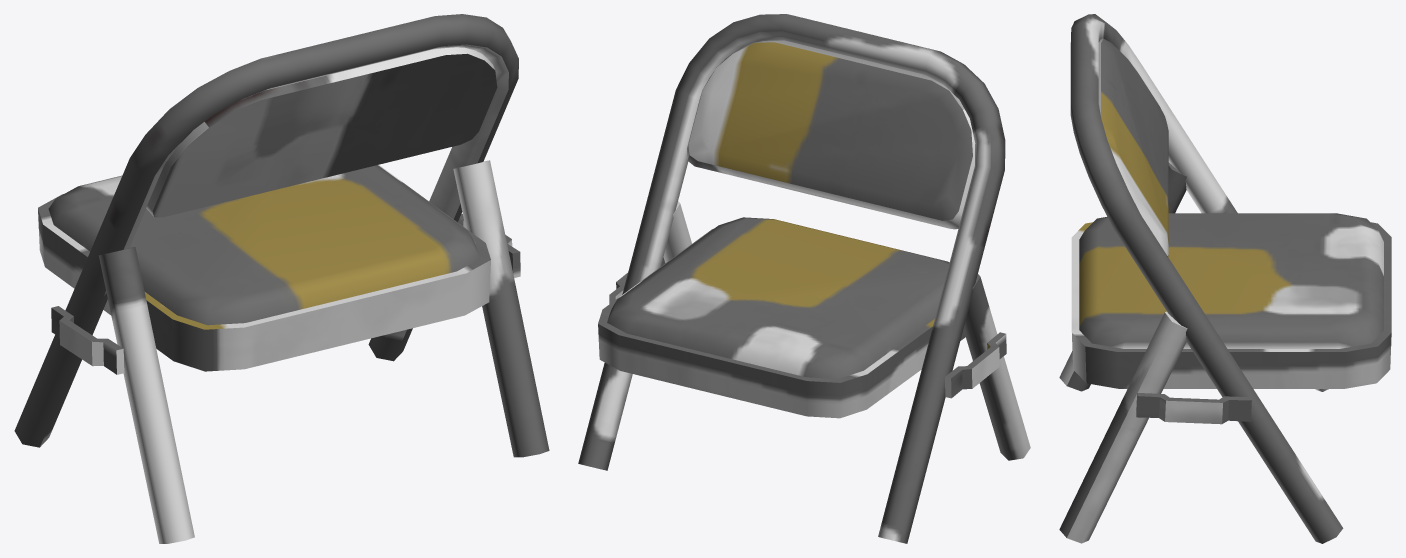
Rendered from Pfb_Chair.fbx.
3 renders of one model, left to right at view 1: azimuth 30°, elevation 25°; view 2: azimuth 150°, elevation 25°; view 3: azimuth 270°, elevation 25°, orthographic. The views are drawn at different scales.
Parts seen in each view (by area): view 1: Mat_Chair_02_White_M; view 2: Mat_Chair_02_White_M; view 3: Mat_Chair_02_White_M.
Part boxes in pixels (x1,y1,x2,y2): Mat_Chair_02_White_M: (14, 14, 549, 543); Mat_Chair_02_White_M: (578, 14, 1030, 543); Mat_Chair_02_White_M: (1059, 14, 1391, 543).
Bounding box in the file's own units: 0.93 × 0.9795 × 0.7249.
Materials: 1 (1 with a texture image).
